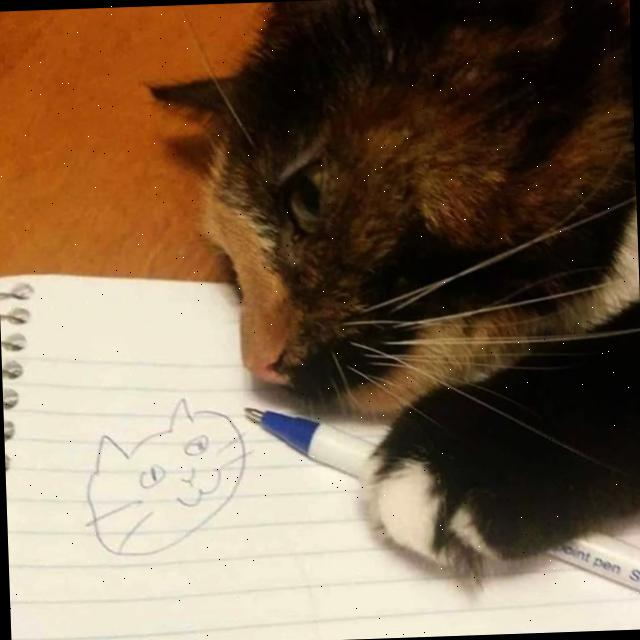cat: (172, 0, 640, 576)
